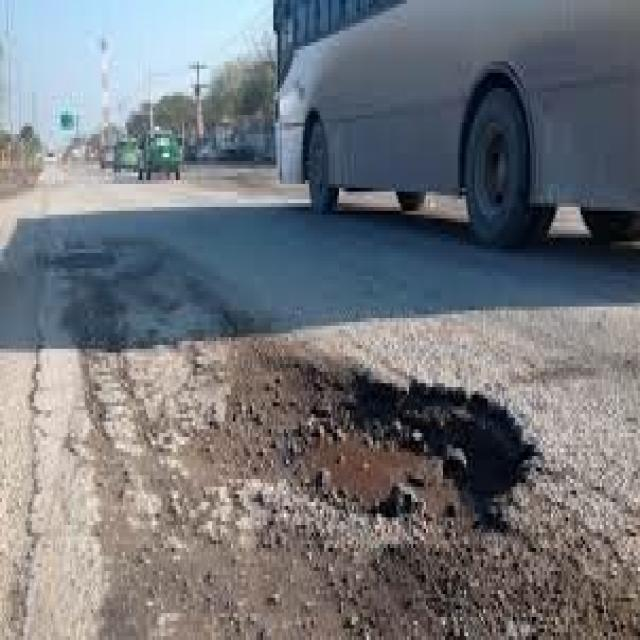Pothole: (212, 306, 549, 602)
